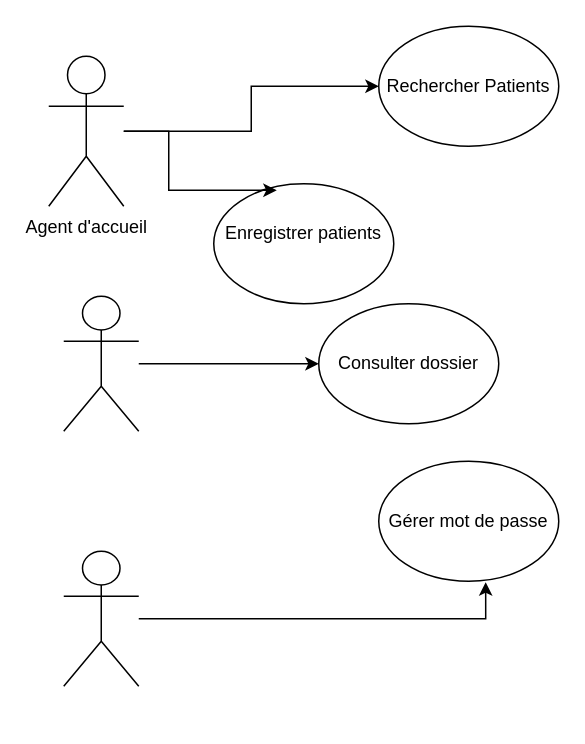
Some shapes in this 585 by 744 pixel diagram are drawn without their labels. Each missing label, with the box of its shape:
Admin: (62, 550, 139, 686)
Médecin: (62, 295, 139, 431)
